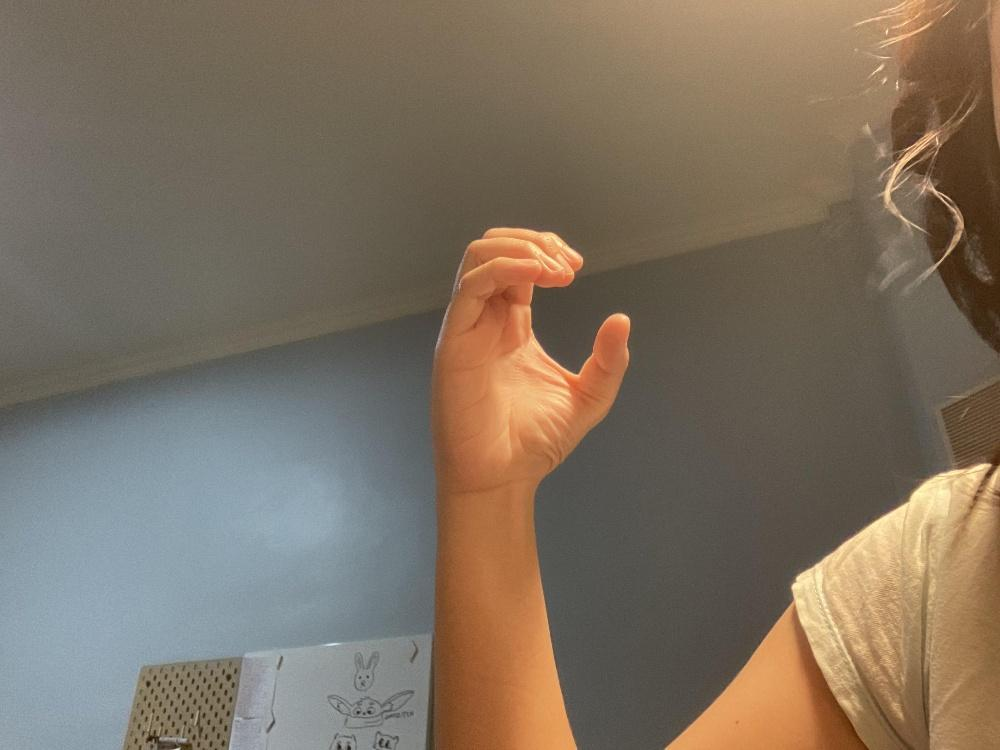c: (428, 226, 630, 493)
